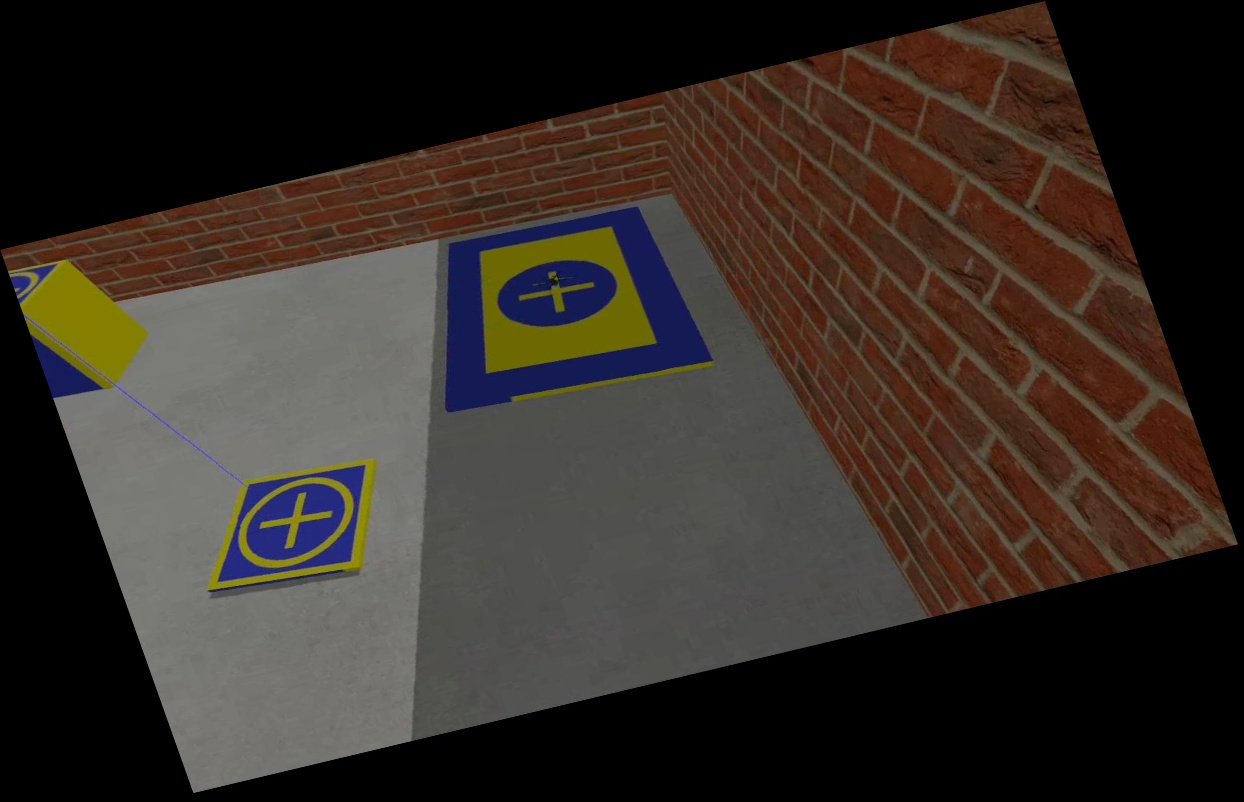large_base: (394, 190, 720, 428)
small_base: (178, 451, 407, 608), (6, 252, 81, 315)
